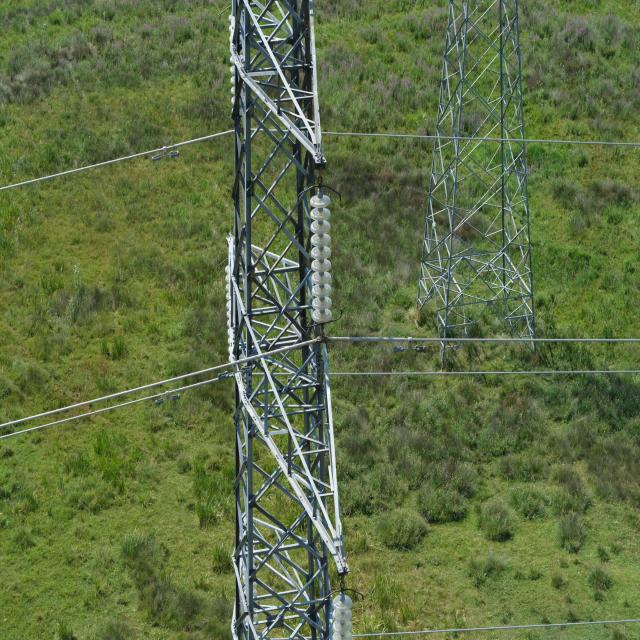direk: (227, 4, 340, 640), (418, 5, 536, 352)
